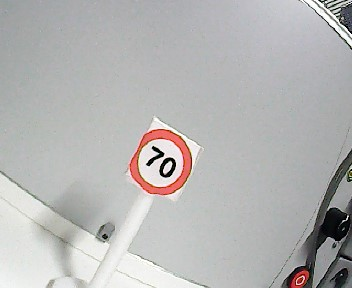70-bord: (129, 128, 192, 194)
